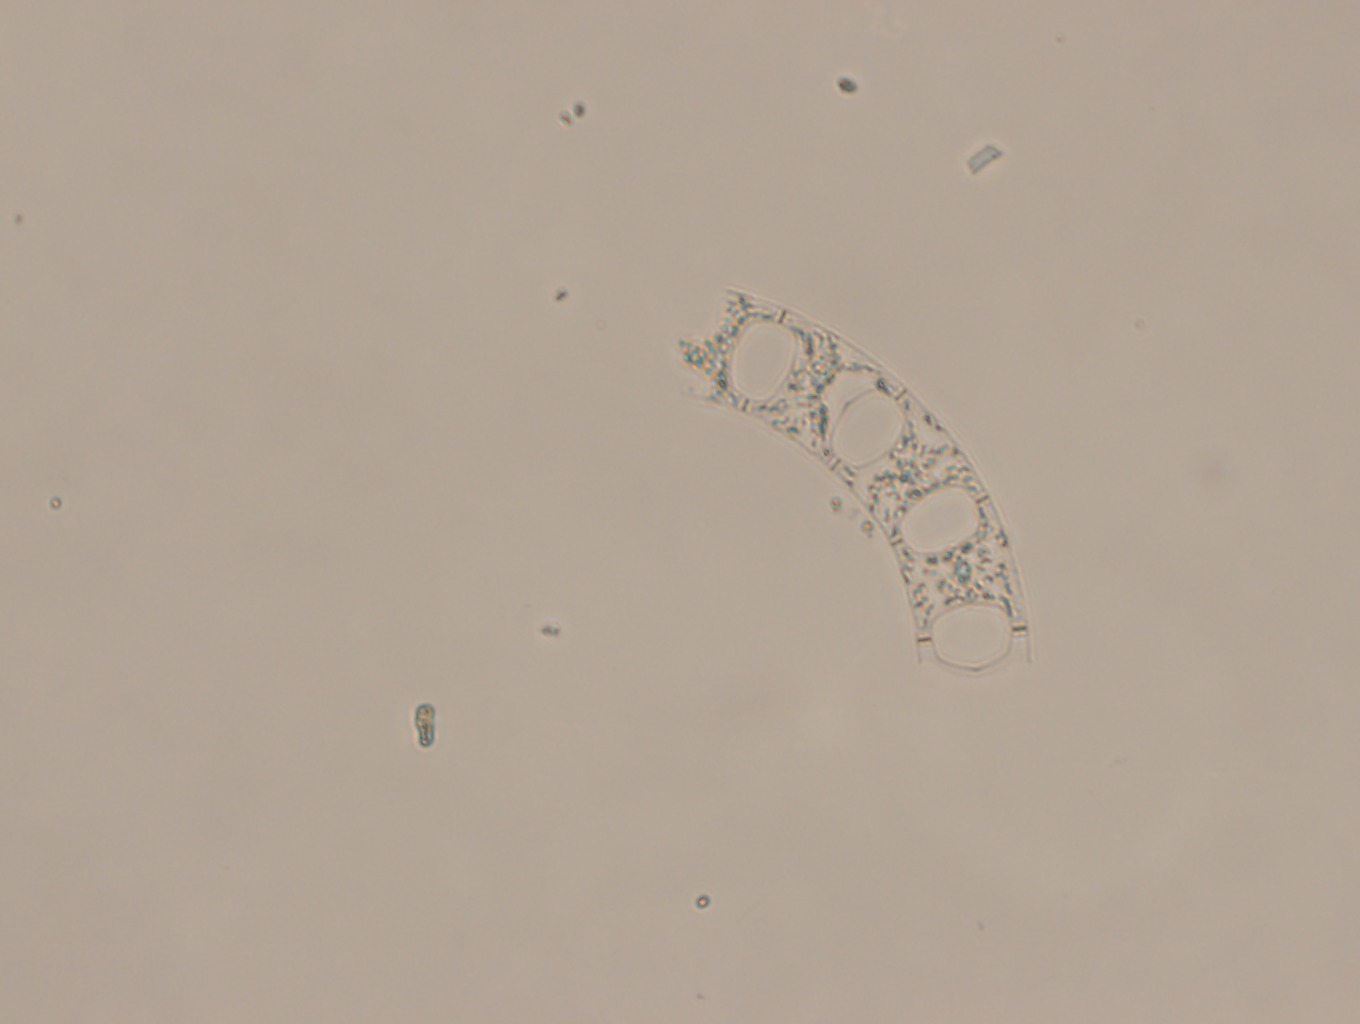eucampia: (672, 286, 1044, 670)
